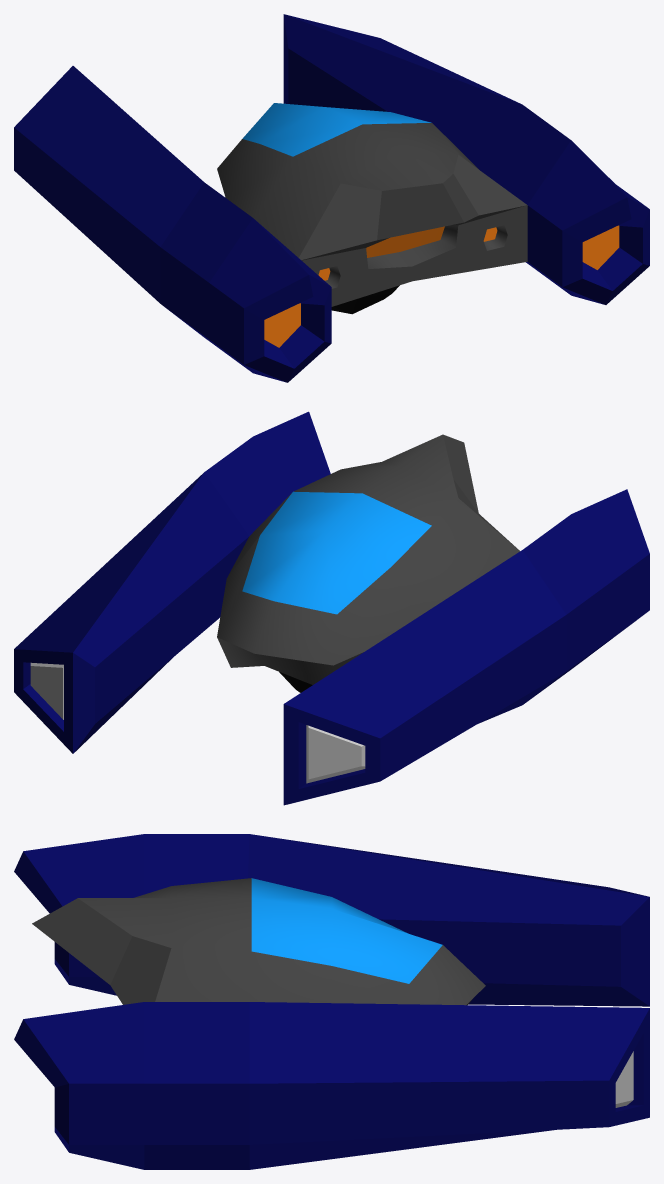
Rendered from Prototype_Ship_2_Combo.obj.
3 renders of one model, top to bottom at view 1: azimuth 30°, elevation 25°; view 2: azimuth 150°, elevation 25°; view 3: azimuth 270°, elevation 25°, orthographic. The views are drawn at different scales.
Parts seen in each view (by area): view 1: Cube, Icosphere; view 2: Cube; view 3: Cube.
Boxes of the visible parts, x1,y1,x2,y2 form: Cube: [14, 14, 649, 382]; Icosphere: [331, 285, 399, 314]; Cube: [14, 411, 649, 805]; Cube: [14, 834, 649, 1169].
Size of the model in its own units: 3.18 by 1.48 by 3.99.
